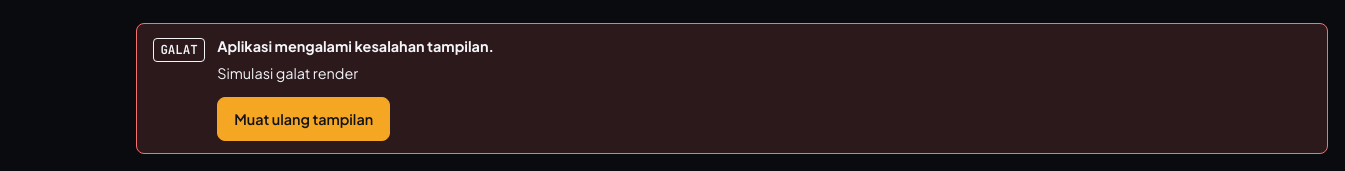
Test: ErrorBoundary › catches a child render error and recovers when clicking Muat ulang tampilan
Check: the text "Aplikasi mengalami kesalahan tampilan." is shown, box [217, 37, 494, 55]
Check: the text "Simulasi galat render" is shown, box [217, 64, 358, 82]
Step 1. Click the button "Muat ulang tampilan" → (304, 119), box [217, 97, 390, 141]
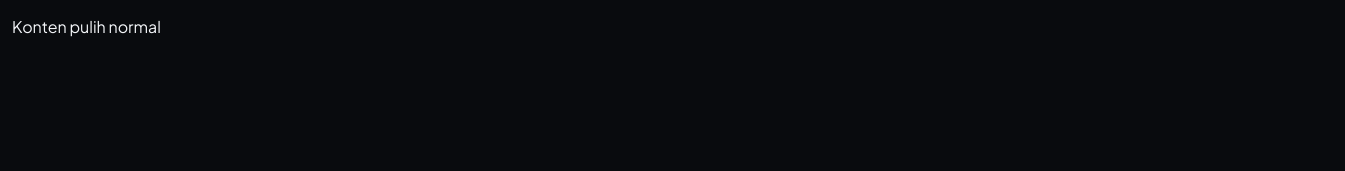
Check: the message is gone
Check: the text "Konten pulih normal" is shown, box [12, 16, 161, 37]
